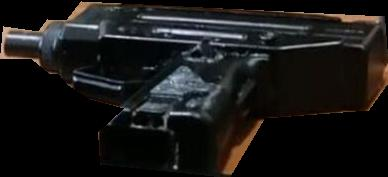gun: (0, 1, 388, 177)
